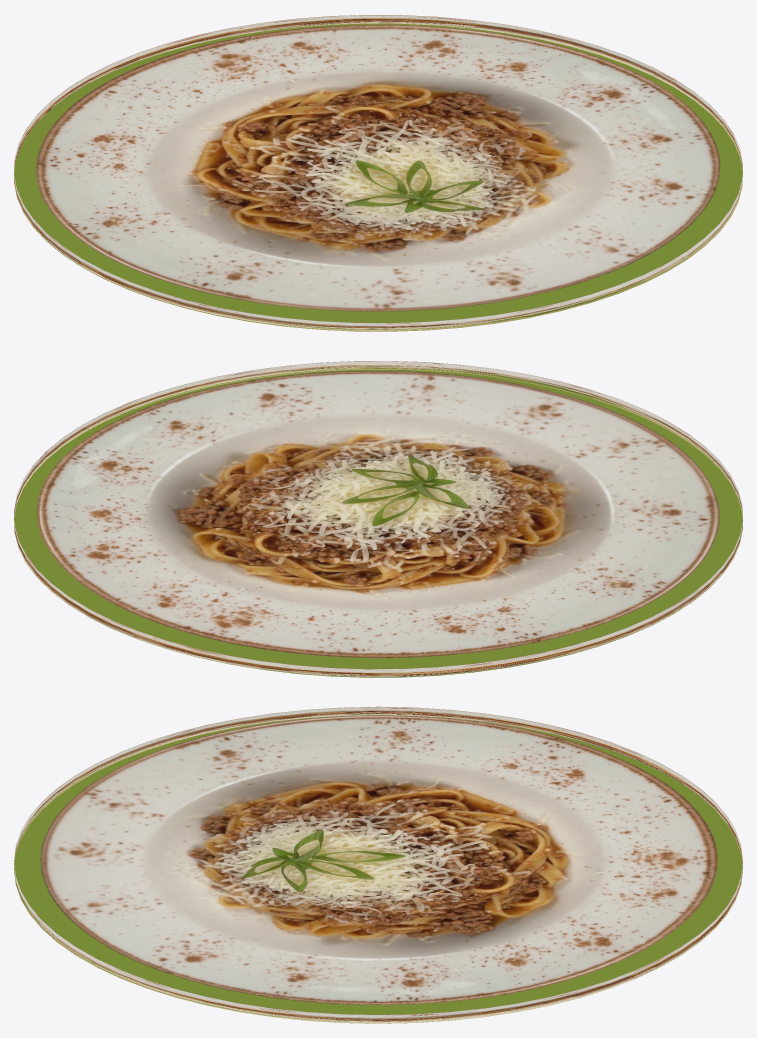
Rendered from plato_monroe.glb.
3 renders of one model, top to bottom at view 1: azimuth 30°, elevation 25°; view 2: azimuth 150°, elevation 25°; view 3: azimuth 270°, elevation 25°, orthographic.
Parts seen in each view (by area): view 1: PlatoMonroe; view 2: PlatoMonroe; view 3: PlatoMonroe.
Part boxes in pixels (x1,y1,x2,y2): PlatoMonroe: [14, 15, 742, 331]; PlatoMonroe: [14, 361, 742, 677]; PlatoMonroe: [14, 706, 742, 1023].
Size of the model in its own units: 0.28 by 0.004 by 0.28.
Materials: 1 (1 with a texture image).
